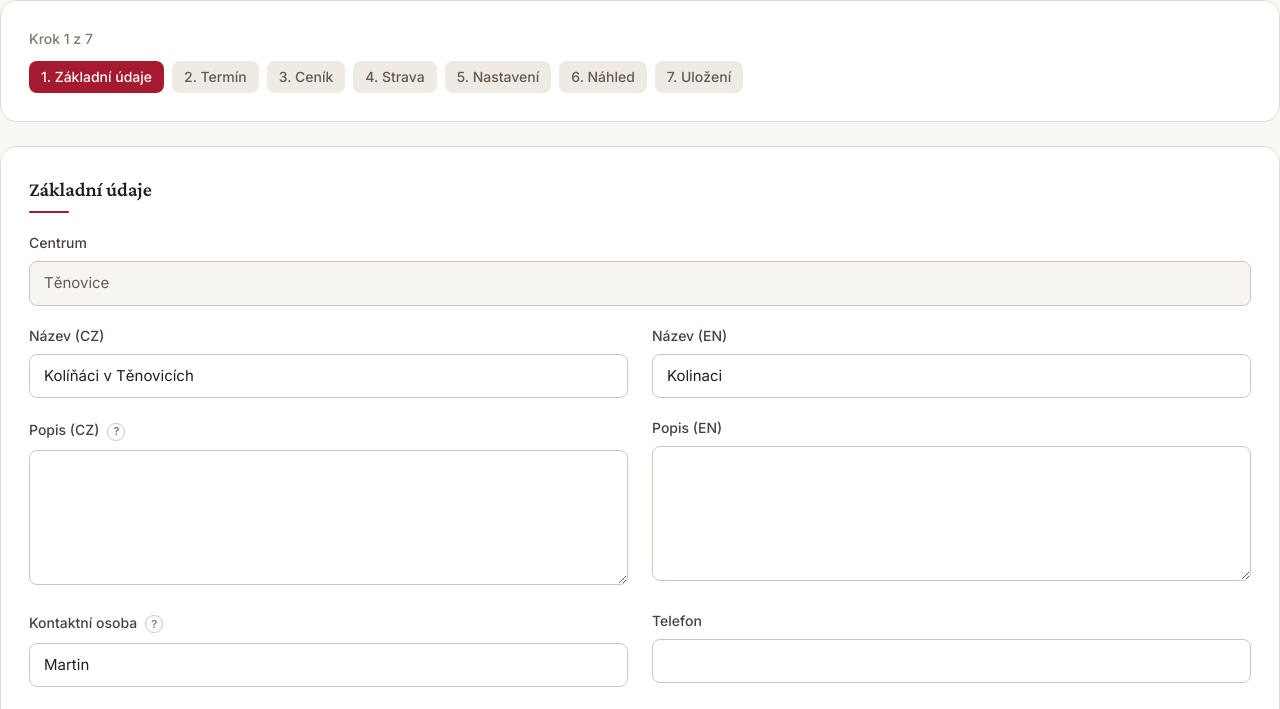
it: when the server refuses the save › words the event_ended refusal instead of a generic failure
The image size is (1280, 709).
What coordinates should you click on to do the following:
click the button "7. Uložení"
I would click on:
 (699, 77)
Its box is [655, 61, 743, 93].
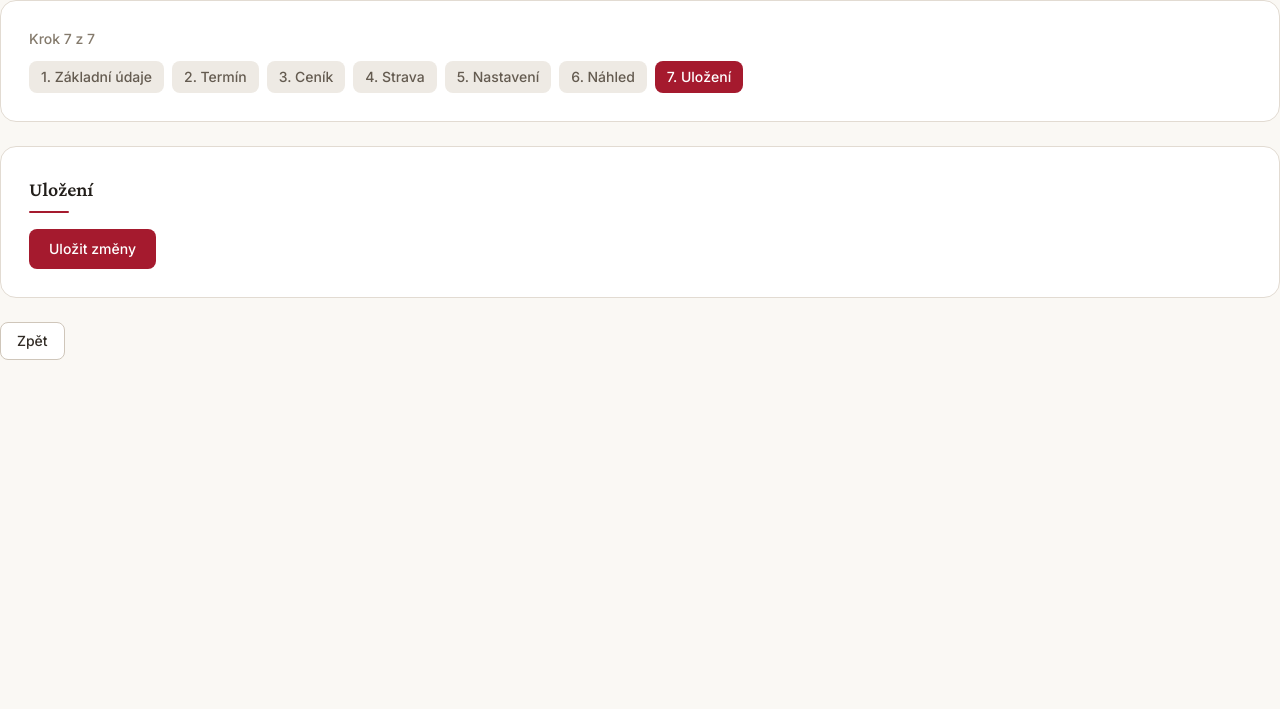
What coordinates should you click on to do the following:
click the button "Uložit změny"
I would click on:
 (92, 249)
Its box is [29, 229, 156, 269].
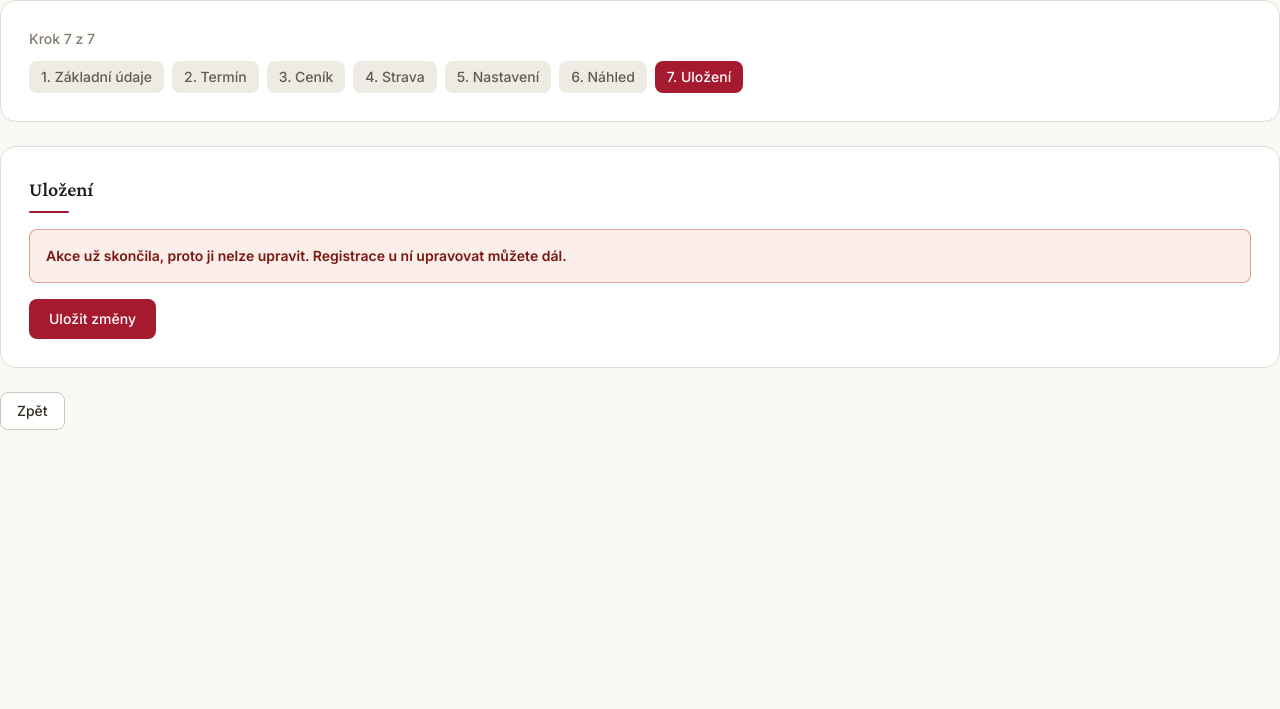
Check: the text "Akce už skončila, proto ji nelze upravit. Registrace u ní upravovat můžete dál." is shown, box [46, 247, 567, 264]
